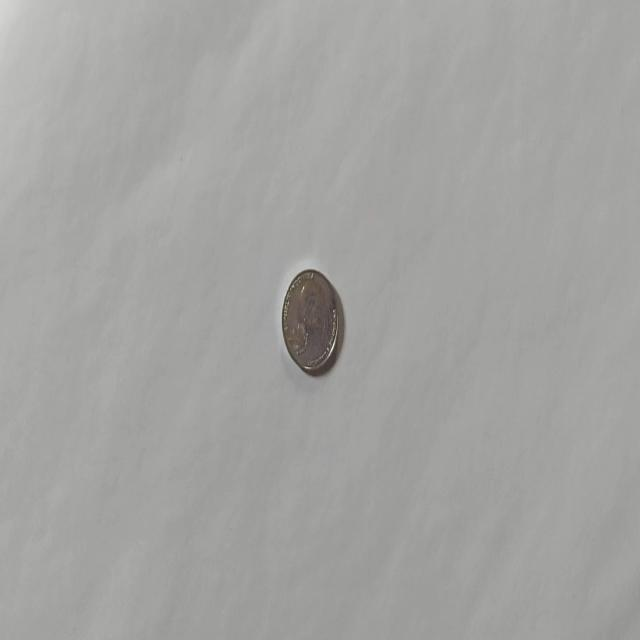lima ratus rupiah: (280, 266, 340, 374)
